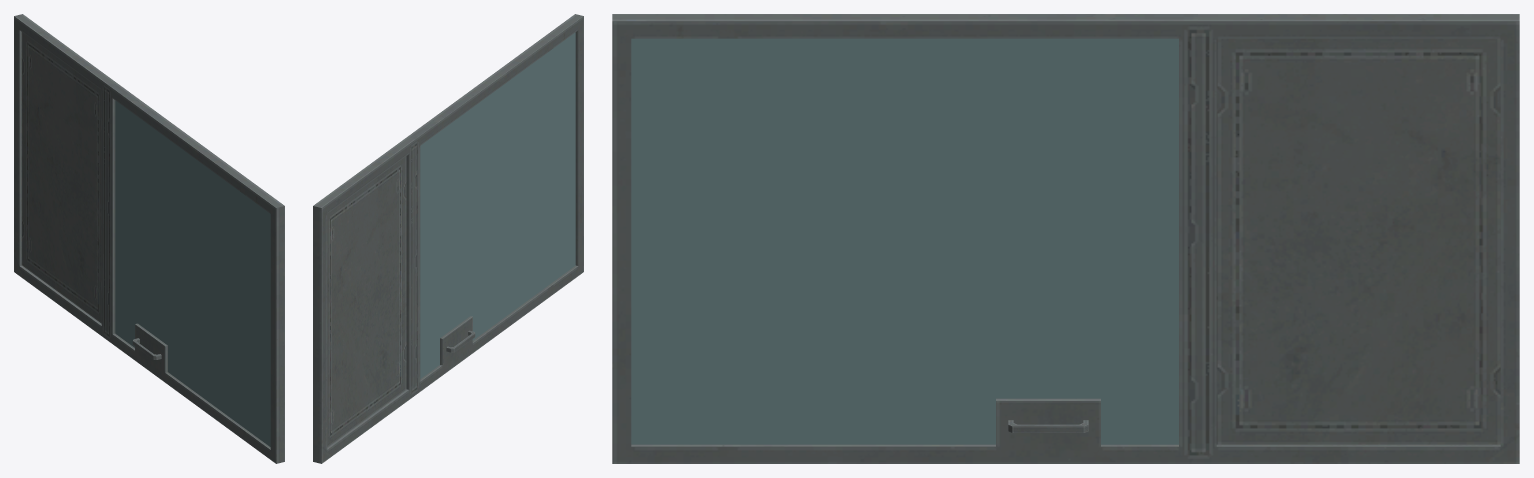
Rendered from p6_monsoon_lab_door_01_LOD0.obj.
3 renders of one model, left to right at view 1: azimuth 30°, elevation 25°; view 2: azimuth 150°, elevation 25°; view 3: azimuth 270°, elevation 25°, orthographic. The views are drawn at different scales.
Parts seen in each view (by area): view 1: mtl_p6_monsoon_lab_doors, glass_clear_iw; view 2: mtl_p6_monsoon_lab_doors, glass_clear_iw; view 3: glass_clear_iw, mtl_p6_monsoon_lab_doors.
Part boxes in pixels (bbox=[...]): mtl_p6_monsoon_lab_doors: bbox=[14, 14, 284, 463]; glass_clear_iw: bbox=[115, 100, 270, 446]; mtl_p6_monsoon_lab_doors: bbox=[313, 14, 583, 463]; glass_clear_iw: bbox=[420, 32, 575, 378]; glass_clear_iw: bbox=[631, 38, 1178, 444]; mtl_p6_monsoon_lab_doors: bbox=[612, 14, 1519, 463].
Size of the model in its own units: 13.31 by 142 by 264.
